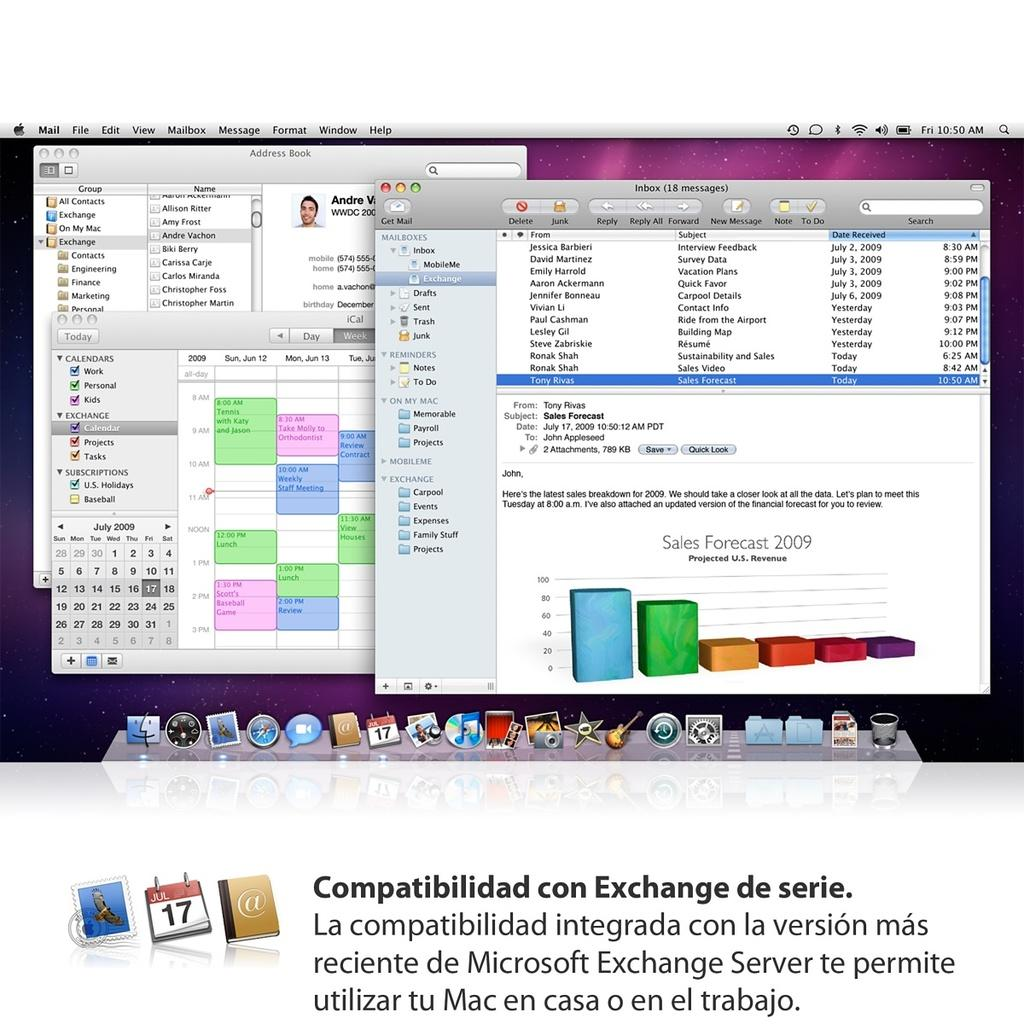Laptop: (0, 128, 1022, 765)
